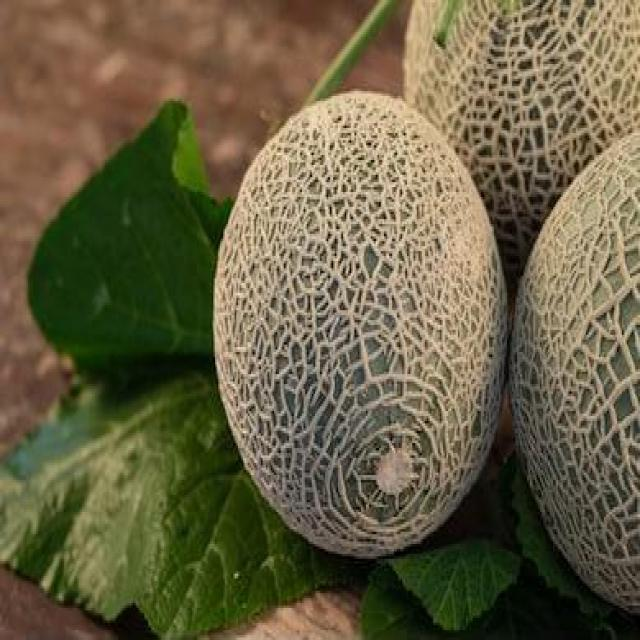cantaloupe: (212, 92, 509, 558)
